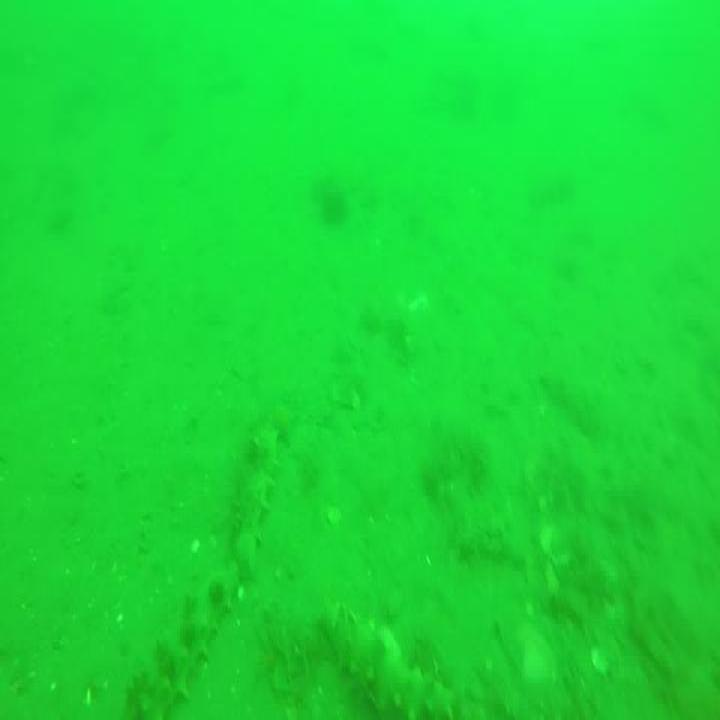echinus: (316, 188, 344, 224)
holothurian: (121, 562, 236, 720), (313, 604, 456, 720), (228, 427, 282, 576)
scallop: (588, 642, 614, 676)
